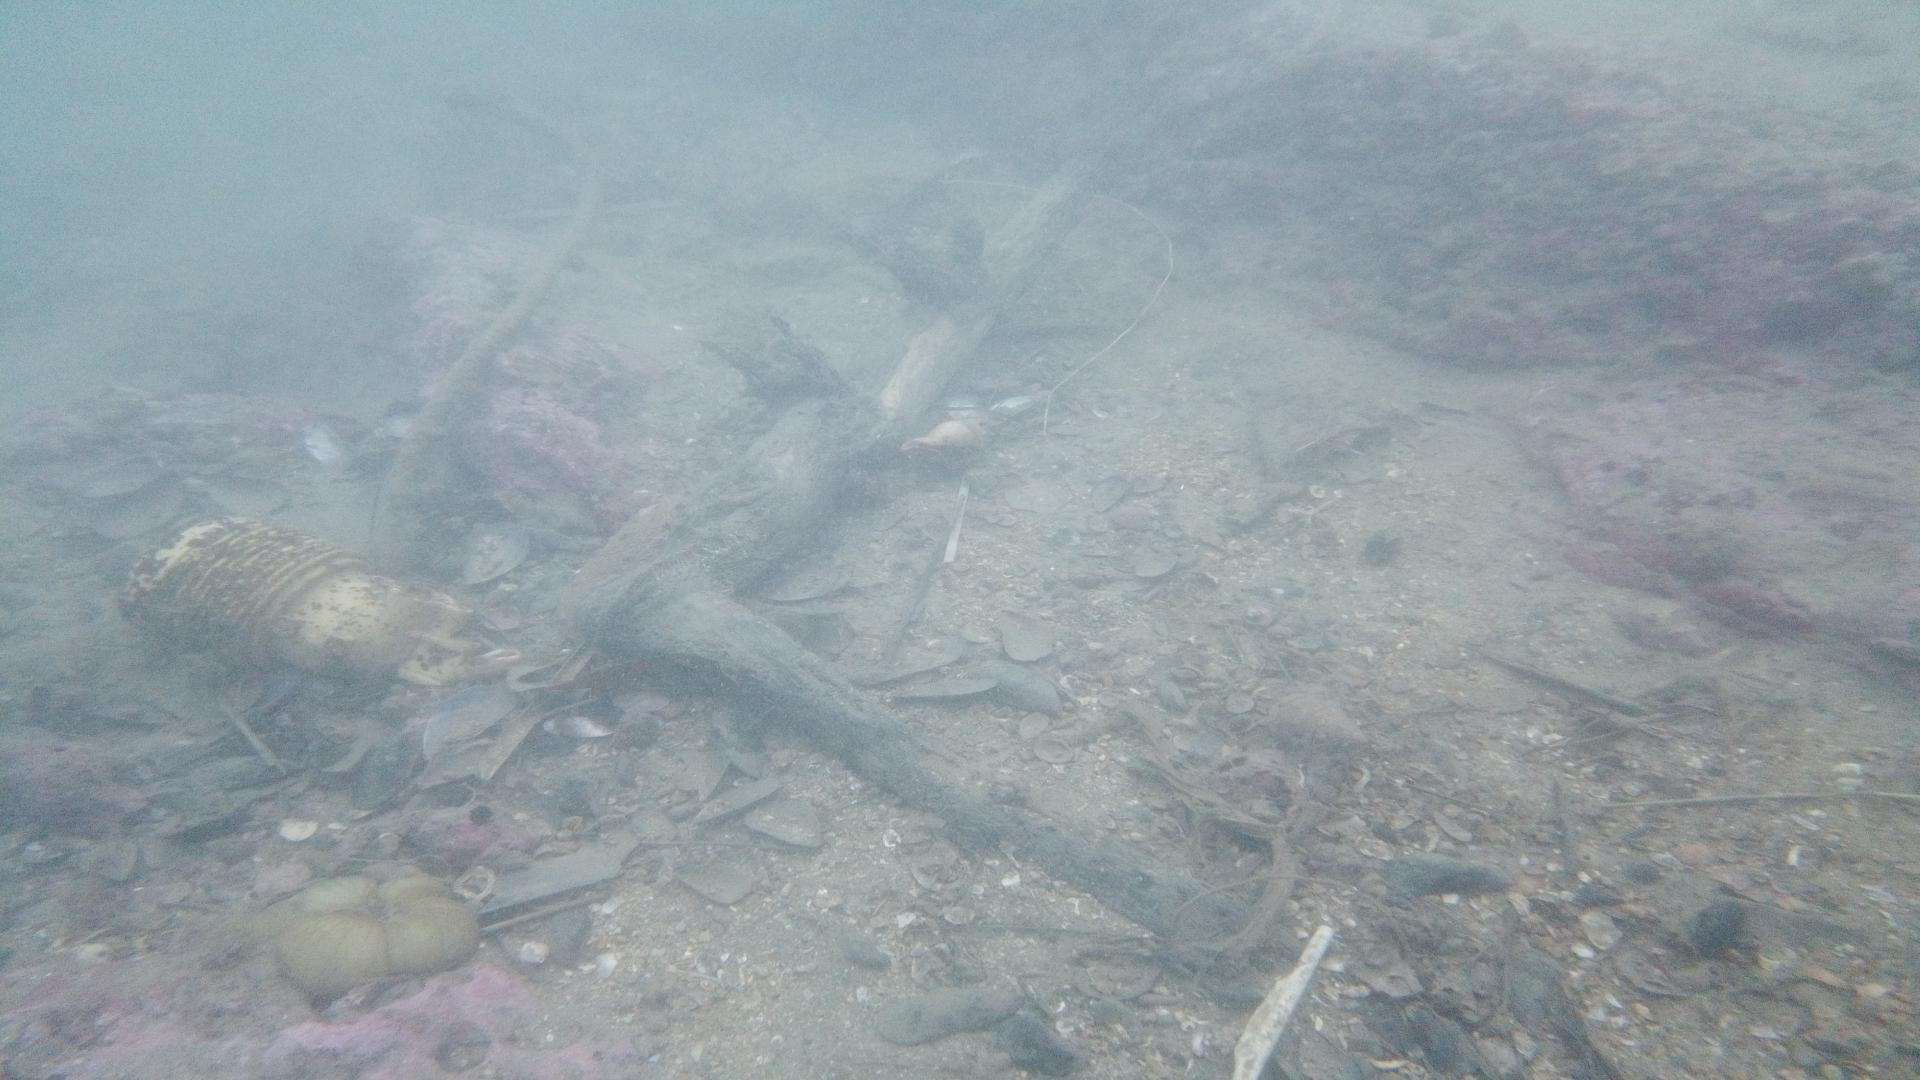rope: (402, 86, 600, 501)
wood: (554, 154, 1302, 978)
